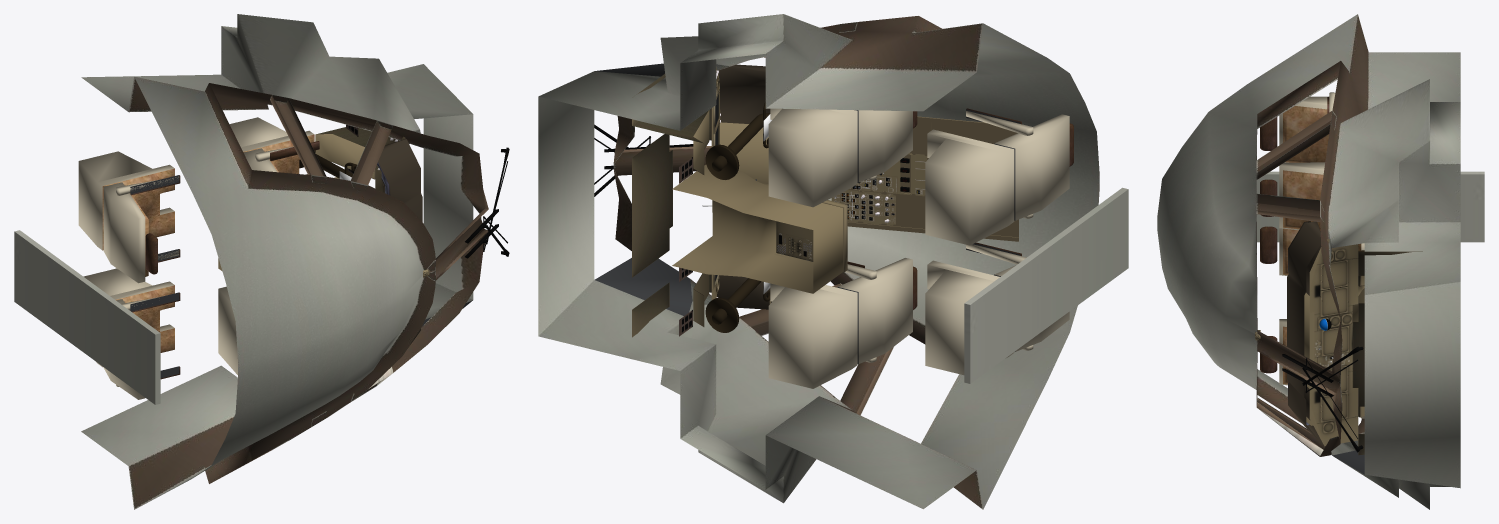
Rendered from b747-8i-cockpit.glb.
3 renders of one model, left to right at view 1: azimuth 30°, elevation 25°; view 2: azimuth 150°, elevation 25°; view 3: azimuth 270°, elevation 25°, orthographic. The views are drawn at different scales.
Bounding box in the file's own units: 3.53 × 3.41 × 2.41.
Materials: 50 (35 with a texture image).
